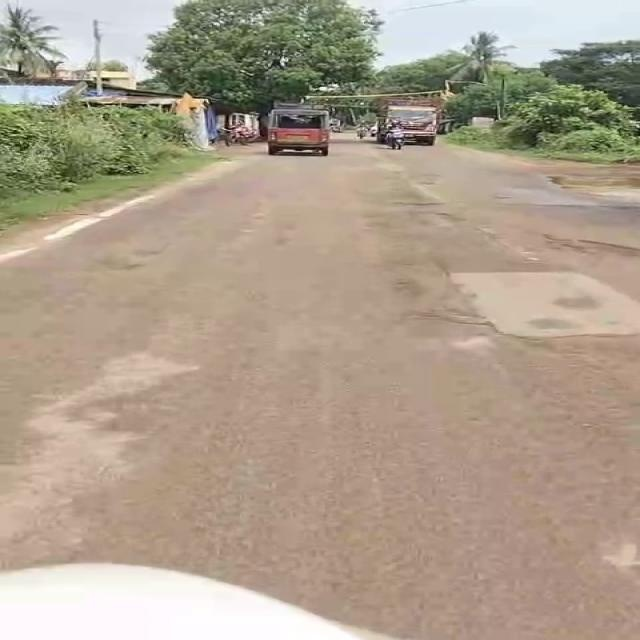pothole: (541, 228, 640, 261), (415, 301, 500, 331), (415, 208, 463, 235), (397, 196, 454, 211)
